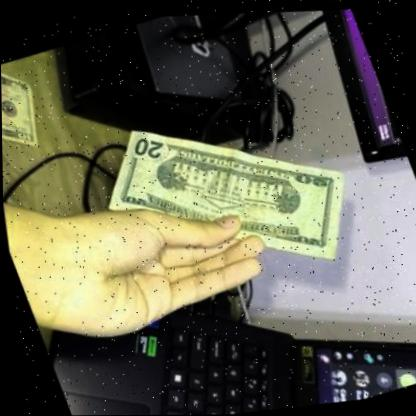ten-front: (1, 54, 53, 166)
twenty-back: (71, 53, 377, 333)
